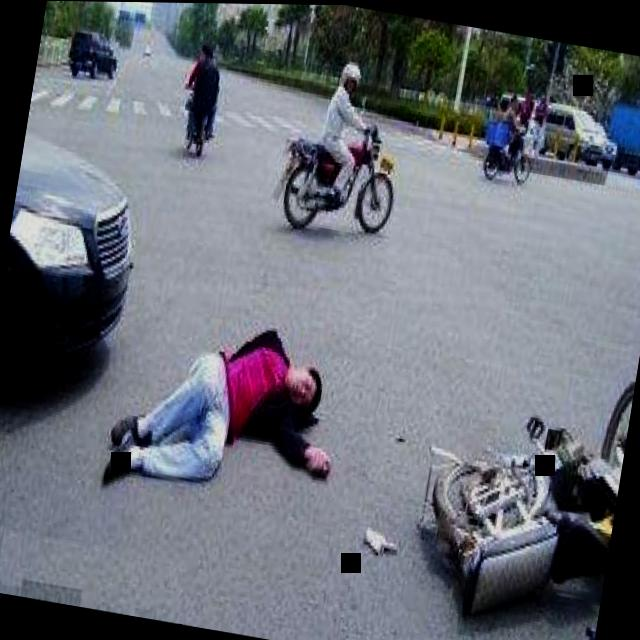Fall-Detected: (94, 279, 366, 524)
